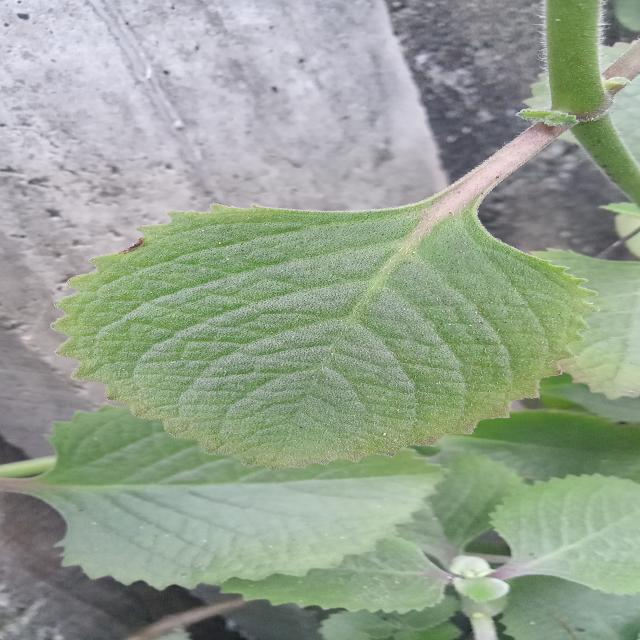Oregano: (42, 189, 609, 480)
